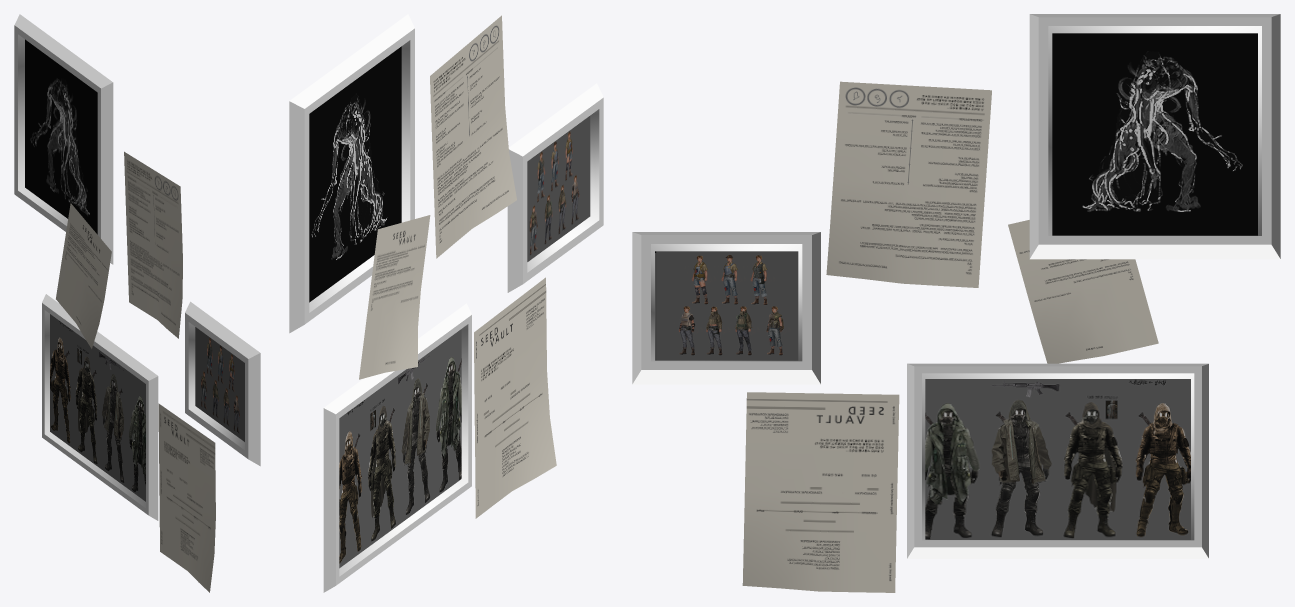
File: BG_CM_BD_Paper_01.fbx
3 renders of one model, left to right at view 1: azimuth 30°, elevation 25°; view 2: azimuth 150°, elevation 25°; view 3: azimuth 270°, elevation 25°, orthographic. The views are drawn at different scales.
Visible parts, largest first — view 1: GenRm_ctrl_mid_post-it_01.004, GenRm_ctrl_mid_post-it_01, GenRm_ctrl_mid_post-it_01.003, GenRm_ctrl_mid_post-it_01.002, GenRm_ctrl_mid_post-it_01.001; view 2: GenRm_ctrl_mid_post-it_01.004, GenRm_ctrl_mid_post-it_01, GenRm_ctrl_mid_post-it_01.003, GenRm_ctrl_mid_post-it_01.002, GenRm_ctrl_mid_post-it_01.001; view 3: GenRm_ctrl_mid_post-it_01.004, GenRm_ctrl_mid_post-it_01, GenRm_ctrl_mid_post-it_01.003, GenRm_ctrl_mid_post-it_01.002, GenRm_ctrl_mid_post-it_01.001.
Part boxes in pixels (bbox=[...]): GenRm_ctrl_mid_post-it_01.004: bbox=[25, 39, 244, 501]; GenRm_ctrl_mid_post-it_01: bbox=[14, 14, 260, 520]; GenRm_ctrl_mid_post-it_01.003: bbox=[158, 403, 215, 592]; GenRm_ctrl_mid_post-it_01.002: bbox=[124, 151, 182, 338]; GenRm_ctrl_mid_post-it_01.001: bbox=[56, 203, 111, 348]; GenRm_ctrl_mid_post-it_01.004: bbox=[309, 46, 590, 568]; GenRm_ctrl_mid_post-it_01: bbox=[289, 14, 603, 592]; GenRm_ctrl_mid_post-it_01.003: bbox=[474, 277, 556, 518]; GenRm_ctrl_mid_post-it_01.002: bbox=[430, 15, 516, 258]; GenRm_ctrl_mid_post-it_01.001: bbox=[359, 215, 430, 379]; GenRm_ctrl_mid_post-it_01.004: bbox=[655, 33, 1257, 539]; GenRm_ctrl_mid_post-it_01: bbox=[632, 14, 1280, 558]; GenRm_ctrl_mid_post-it_01.003: bbox=[742, 392, 899, 592]; GenRm_ctrl_mid_post-it_01.002: bbox=[826, 81, 991, 287]; GenRm_ctrl_mid_post-it_01.001: bbox=[1008, 220, 1158, 363].
Size of the model in its own units: 5.24 by 149 by 151.
